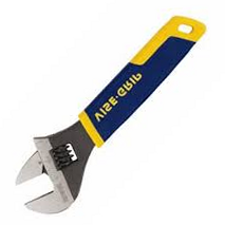wrench: (25, 11, 206, 213)
